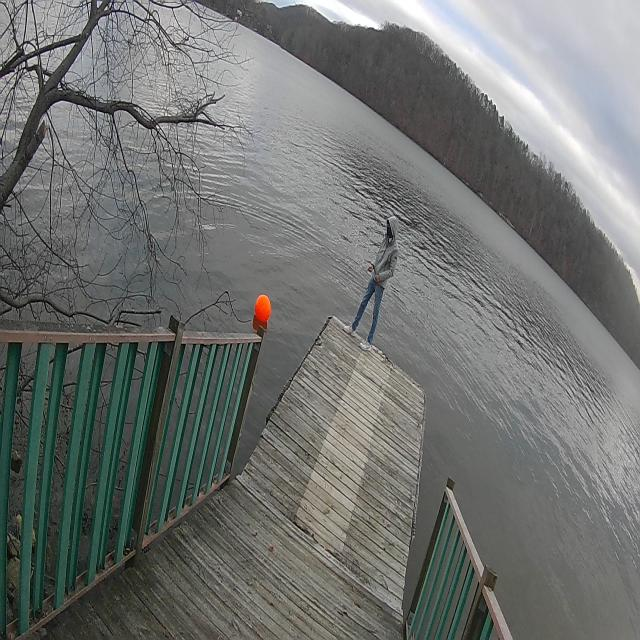Buoy: (250, 280, 278, 334)
